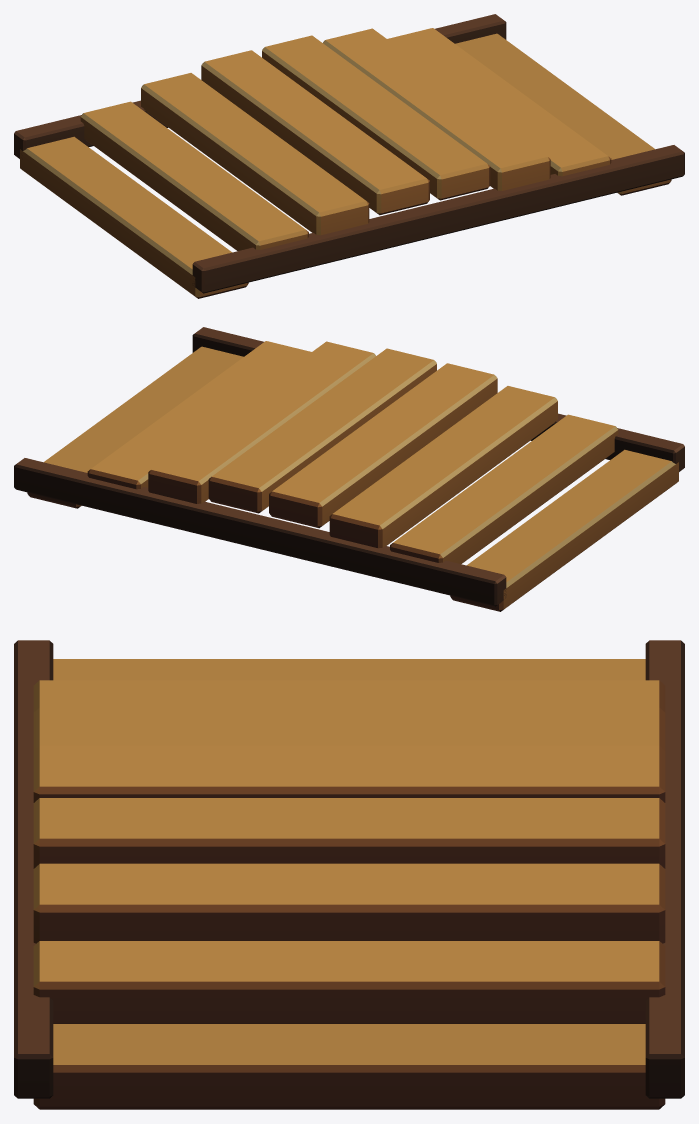
Rendered from footbridge.glb.
3 views of the same model, one above another, from view 1: azimuth 30°, elevation 25°; view 2: azimuth 150°, elevation 25°; view 3: azimuth 270°, elevation 25° (orthographic). The views are drawn at different scales.
Visible parts, largest first — view 1: footbridge; view 2: footbridge; view 3: footbridge.
Part boxes in pixels (x1,y1,x2,y2): footbridge: (14, 14, 684, 298); footbridge: (14, 327, 684, 611); footbridge: (14, 640, 684, 1109).
Bounding box in the file's own units: 1 × 0.128 × 0.68.
